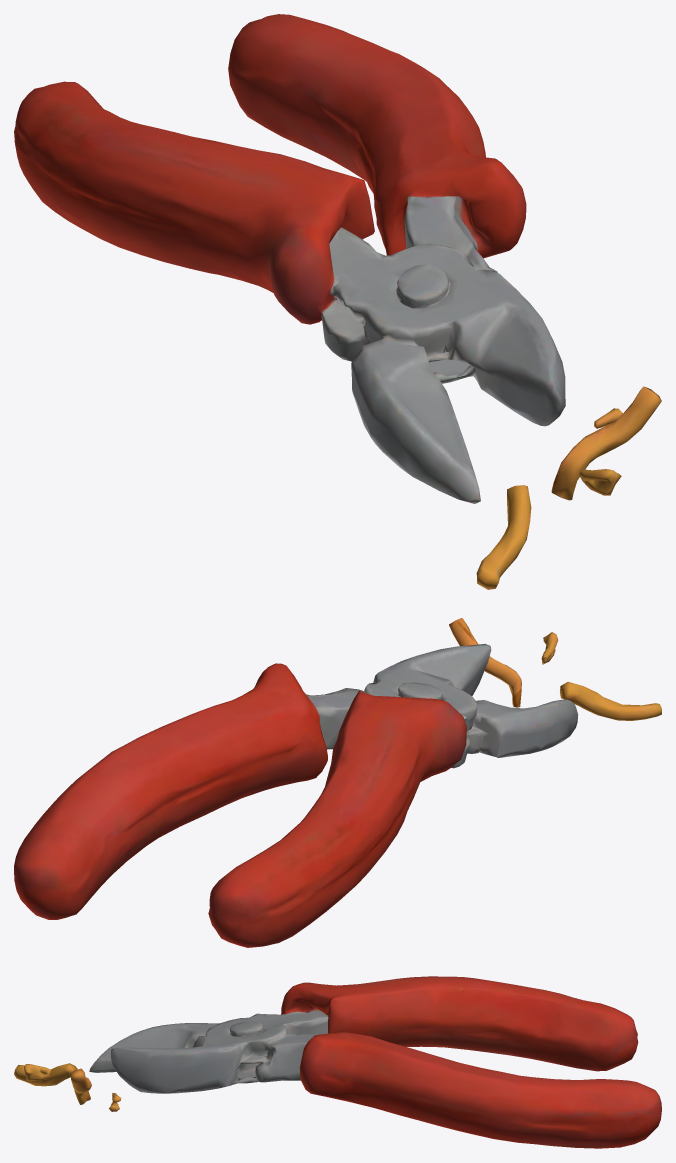
The model's file is pliers.glb.
The picture shows the model from 3 angles, top to bottom: view 1: azimuth 30°, elevation 25°; view 2: azimuth 150°, elevation 25°; view 3: azimuth 270°, elevation 25°; orthographic projection. The views are drawn at different scales.
Visible parts, largest first — view 1: world; view 2: world; view 3: world.
Part boxes in pixels (box(x1,y1,x2,y2)): world: box(14, 14, 661, 589); world: box(14, 618, 661, 947); world: box(14, 976, 661, 1148).
Bounding box in the file's own units: 0.3873 × 0.1904 × 0.9479.
1 material, 1 textured.
